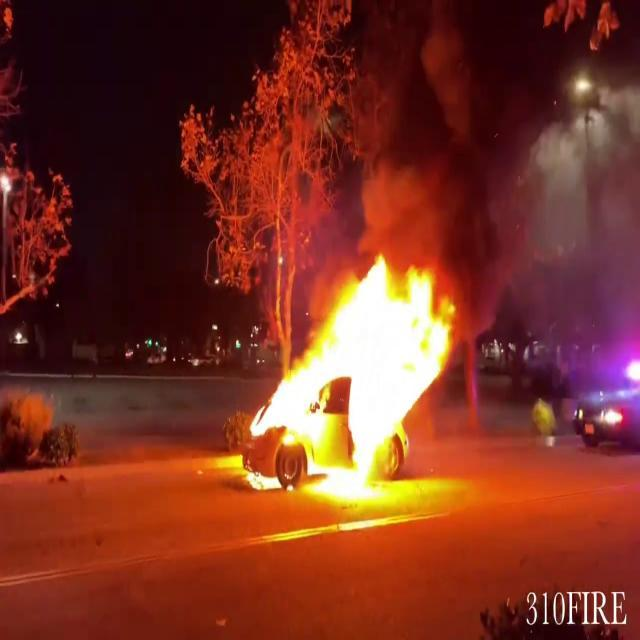Fire: (234, 242, 462, 506)
Smoke: (353, 0, 599, 264)
